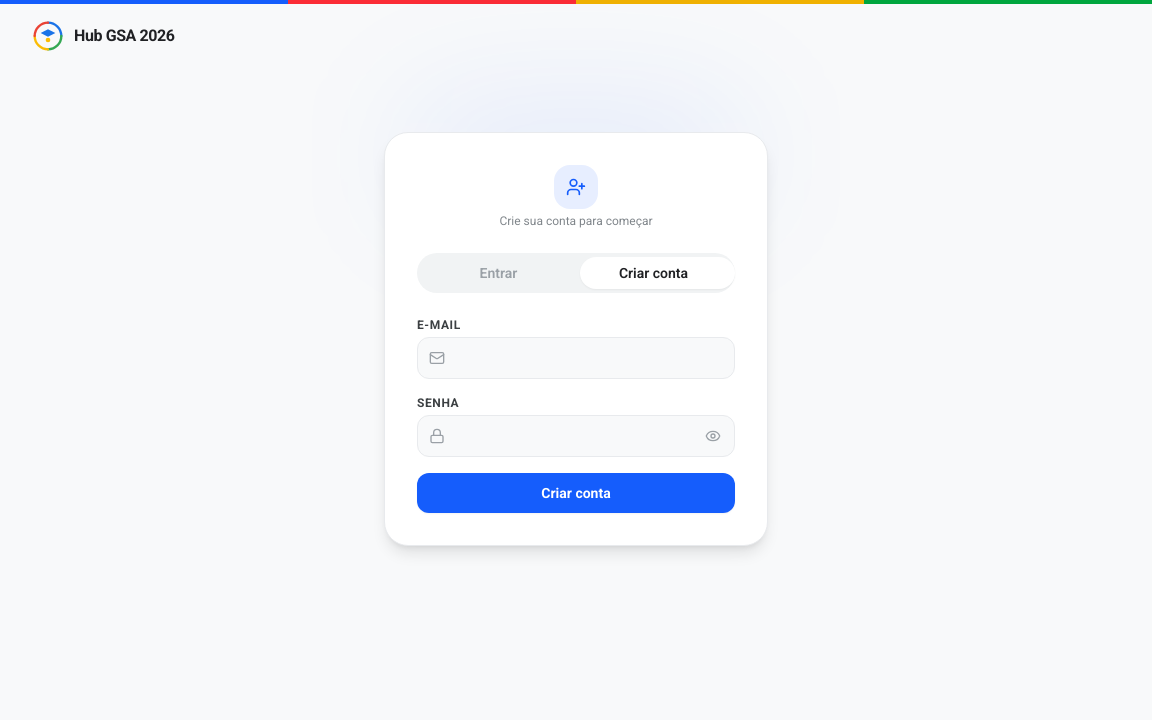
Scenario: AuthScreen › blocks sign up when the password has appeared in a known breach
In the field labelled "E-mail": (576, 358) x1=417 y1=337 x2=735 y2=379, type "nova@example.com"
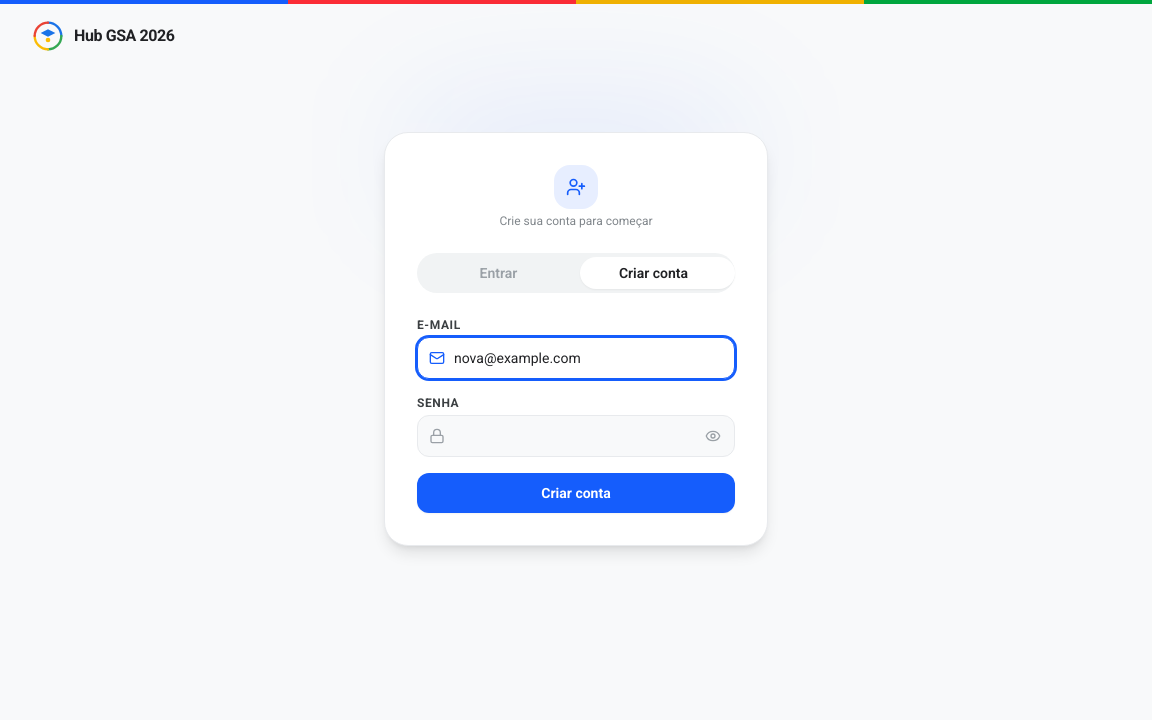
In the password field labelled "Senha": (576, 436) x1=417 y1=415 x2=735 y2=457, type "123456"
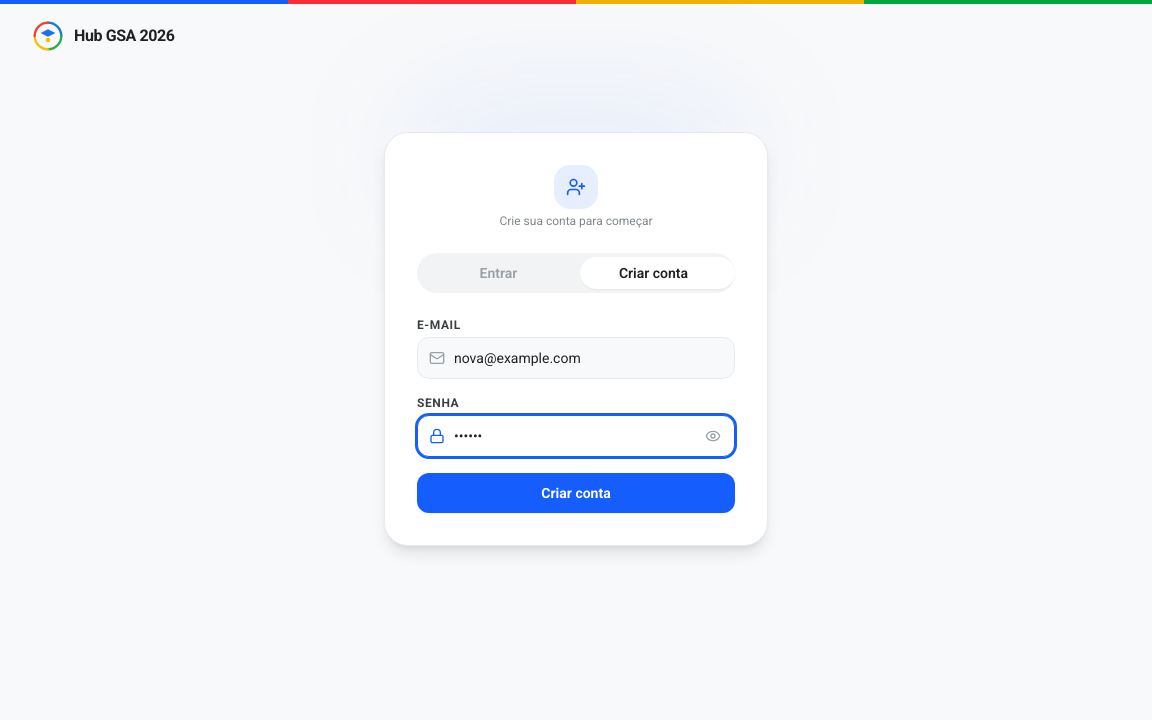
Click the submit button: (576, 493) x1=417 y1=473 x2=735 y2=513
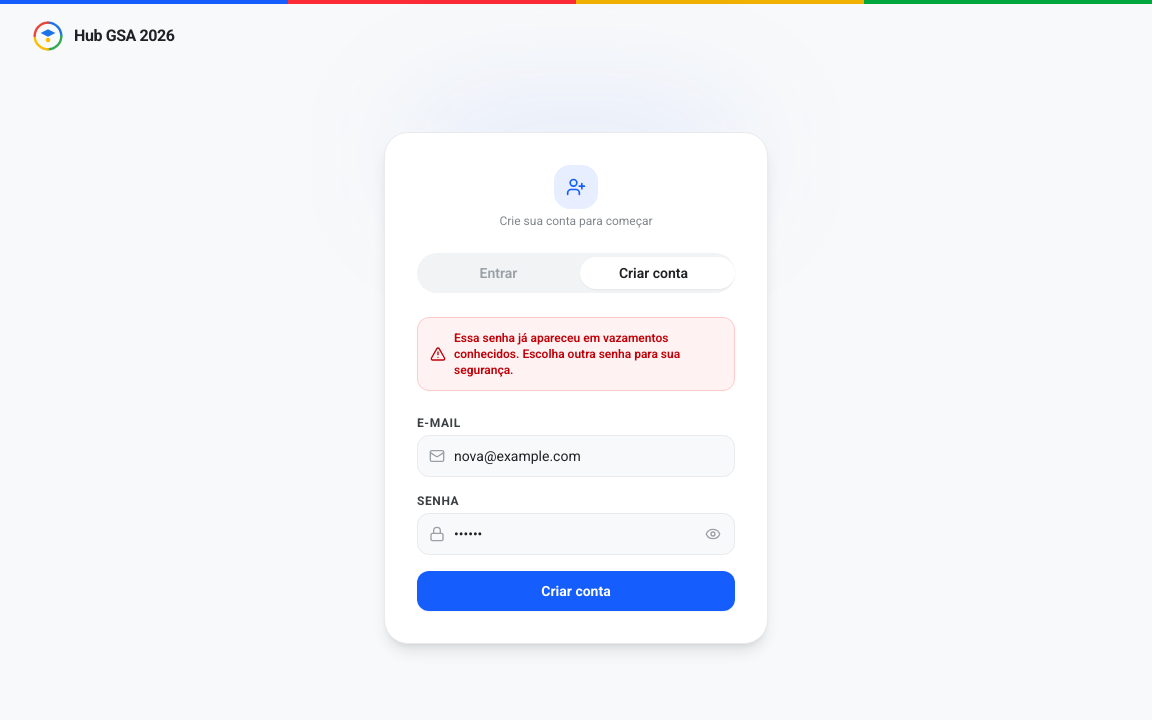
Expected: the text "vazamentos conhecidos" is shown, x1=454 y1=331 x2=680 y2=377
